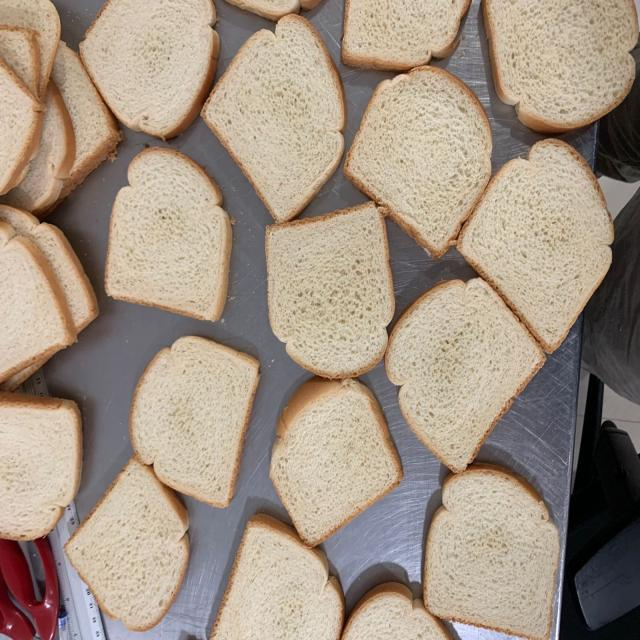sliced_bread: (454, 138, 614, 353), (385, 278, 547, 474), (201, 15, 348, 223), (343, 66, 492, 258), (423, 463, 560, 640), (270, 375, 403, 549), (63, 453, 191, 633), (265, 202, 395, 379), (128, 335, 261, 508), (106, 147, 233, 322)
